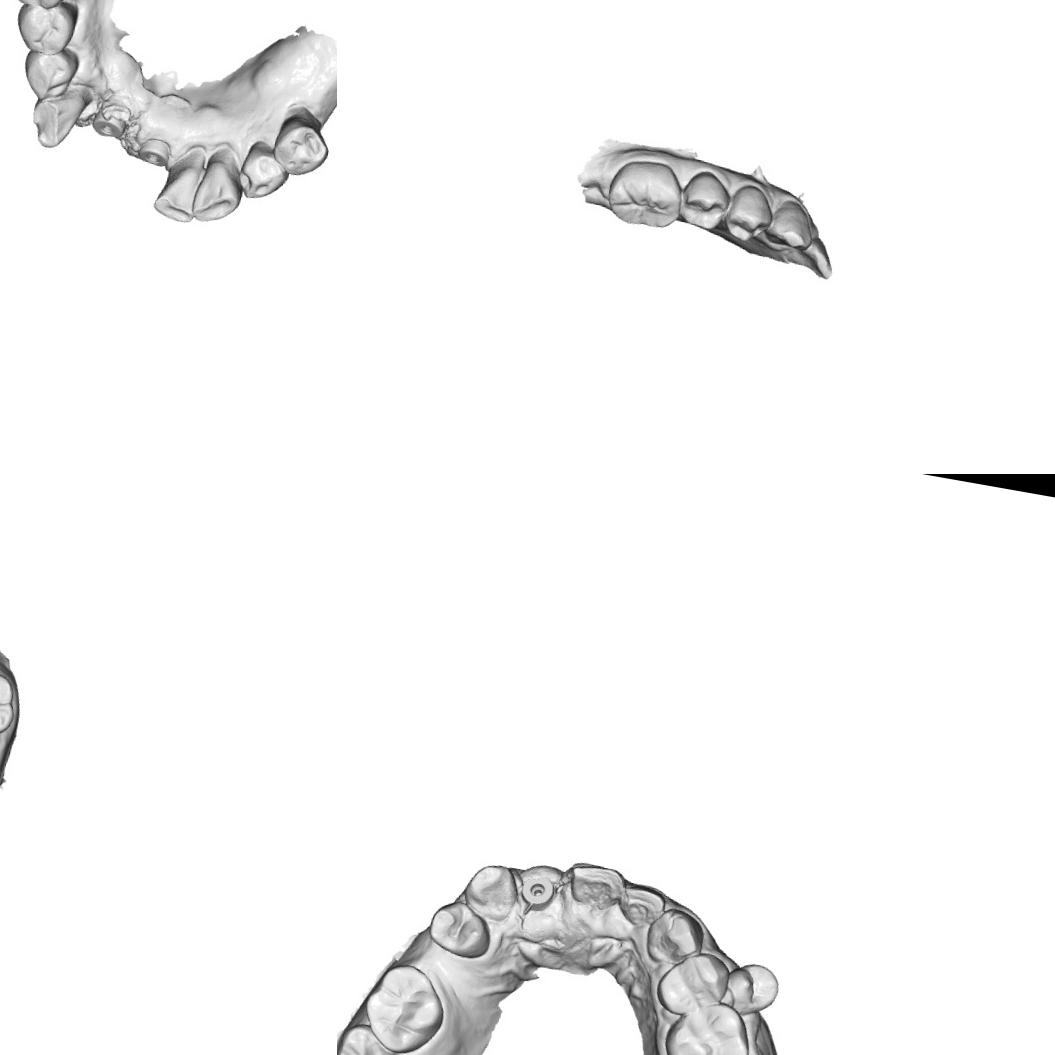canine: (186, 142, 250, 229), (25, 82, 90, 156), (456, 854, 522, 926), (638, 902, 706, 970), (766, 186, 826, 258)
implant: (512, 866, 560, 914), (134, 130, 176, 168), (90, 104, 132, 138)
incisor: (147, 140, 212, 227), (562, 856, 628, 914), (774, 230, 840, 284), (612, 878, 672, 933)
molar: (354, 958, 452, 1055), (600, 150, 689, 234), (656, 993, 756, 1055), (337, 1017, 415, 1055), (0, 660, 22, 739)
premolar: (650, 944, 736, 1024), (420, 894, 500, 964), (265, 109, 335, 182), (13, 40, 82, 108), (7, 0, 85, 60), (674, 161, 733, 232), (720, 176, 779, 247), (720, 956, 784, 1021), (235, 138, 295, 206)
